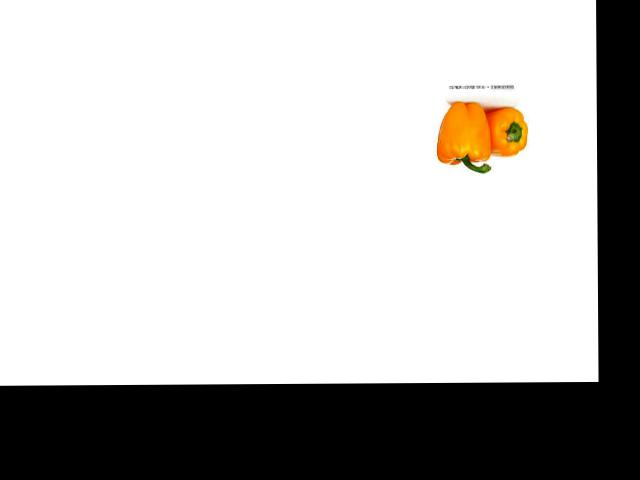bell_pepper: (483, 104, 528, 160)
